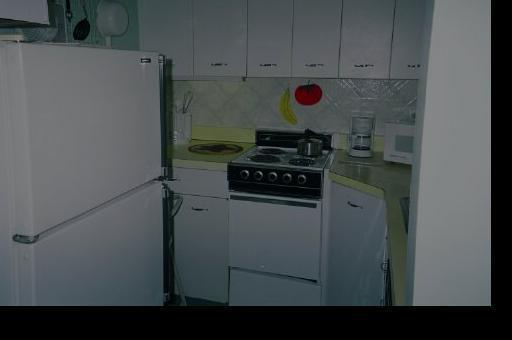Electrodomestico: (0, 42, 164, 303), (229, 159, 324, 305)
